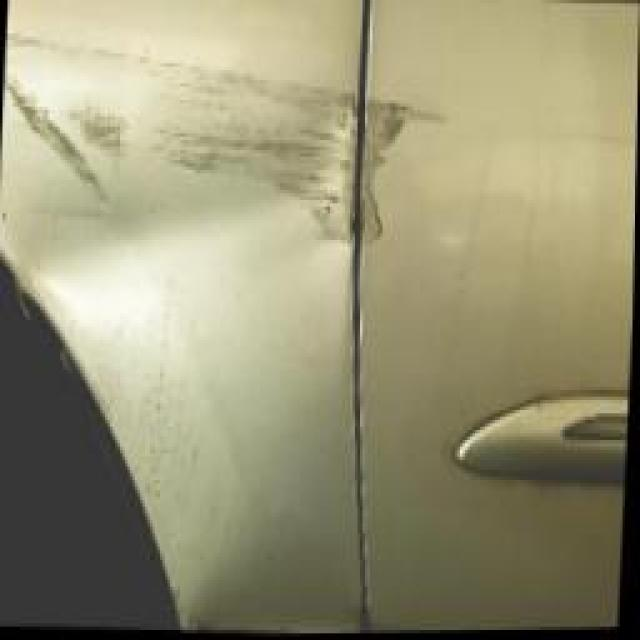Door: (355, 73, 471, 285)
Fender: (0, 27, 364, 266)
